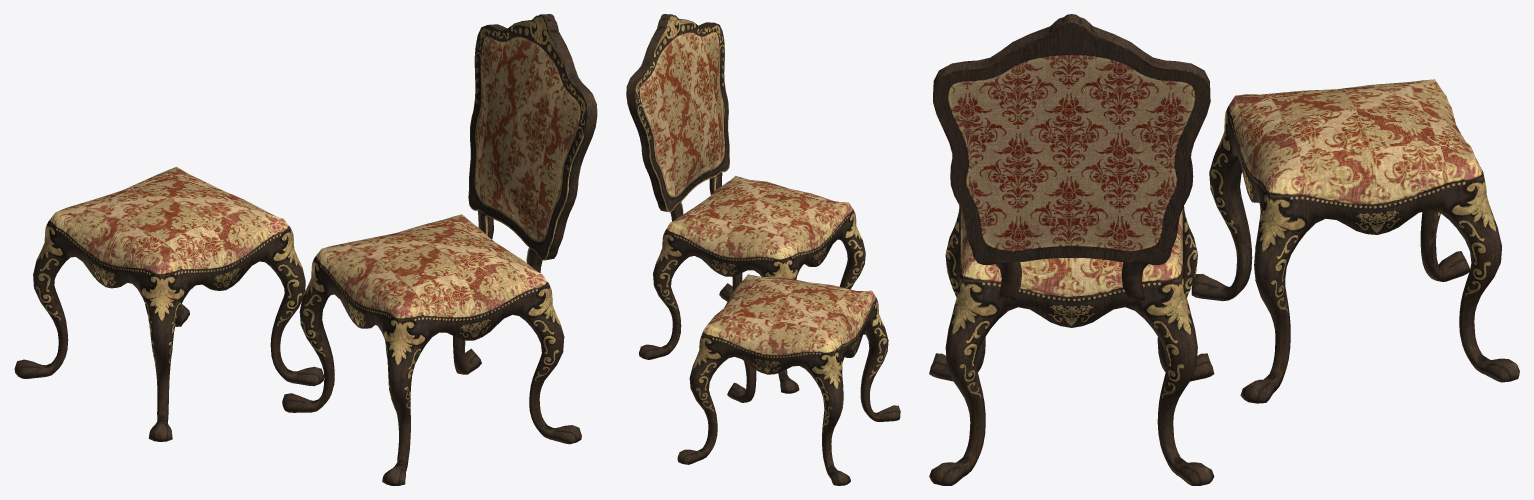
3 views of the same model, side by side, from view 1: azimuth 30°, elevation 25°; view 2: azimuth 150°, elevation 25°; view 3: azimuth 270°, elevation 25° (orthographic). The views are drawn at different scales.
Visible parts, largest first — view 1: DiningxChair, DiningxStool; view 2: DiningxChair, DiningxStool; view 3: DiningxChair, DiningxStool.
Boxes of the visible parts, x1,y1,x2,y2 form: DiningxChair: [282, 14, 597, 485]; DiningxStool: [14, 166, 324, 441]; DiningxChair: [626, 14, 865, 393]; DiningxStool: [677, 274, 900, 485]; DiningxChair: [929, 14, 1214, 485]; DiningxStool: [1191, 79, 1519, 403].
Size of the model in its own units: 1.39 by 1.33 by 1.48.
1 material, 1 textured.
